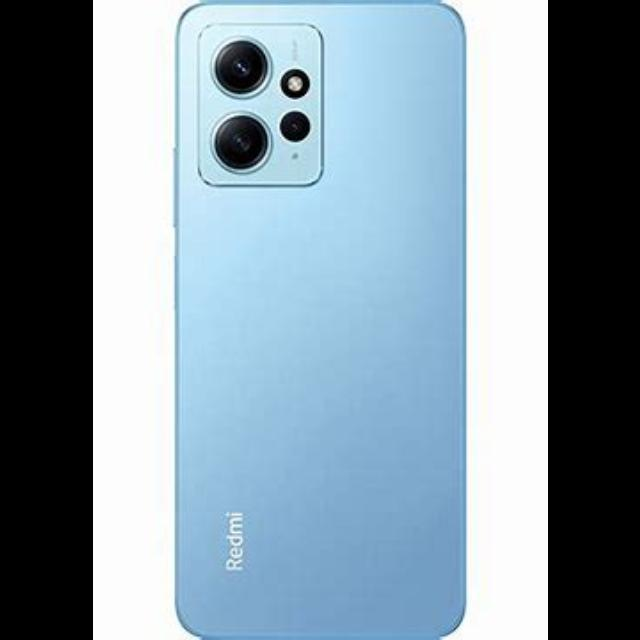Smartphone: (170, 0, 469, 640)
